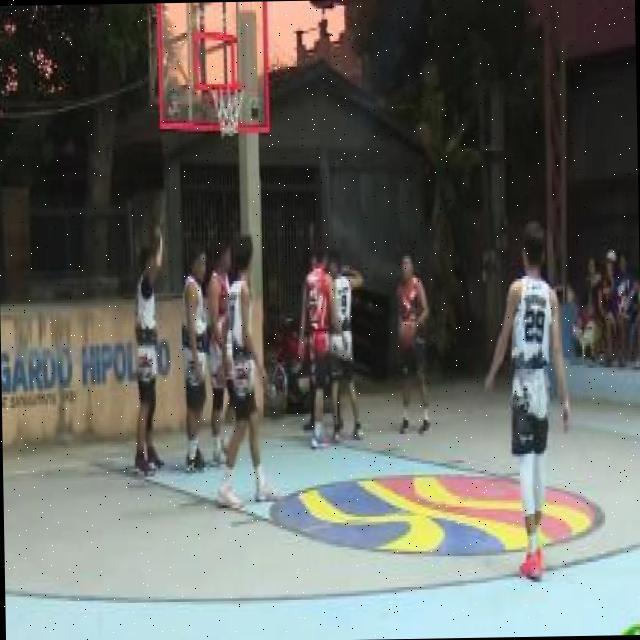ball: (394, 320, 416, 350)
